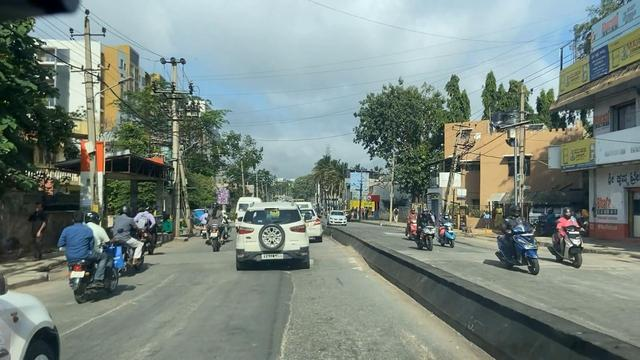LMV: (60, 215, 122, 292), (237, 205, 310, 264), (205, 203, 227, 249)
RoadDamages: (70, 271, 172, 335), (272, 270, 302, 360)
